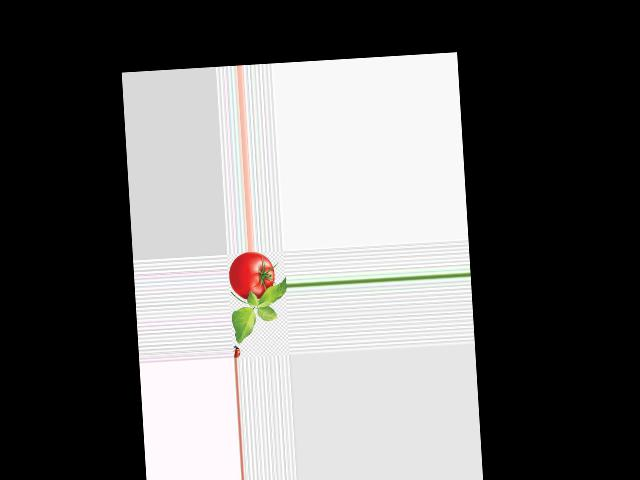tomato: (227, 250, 275, 300)
